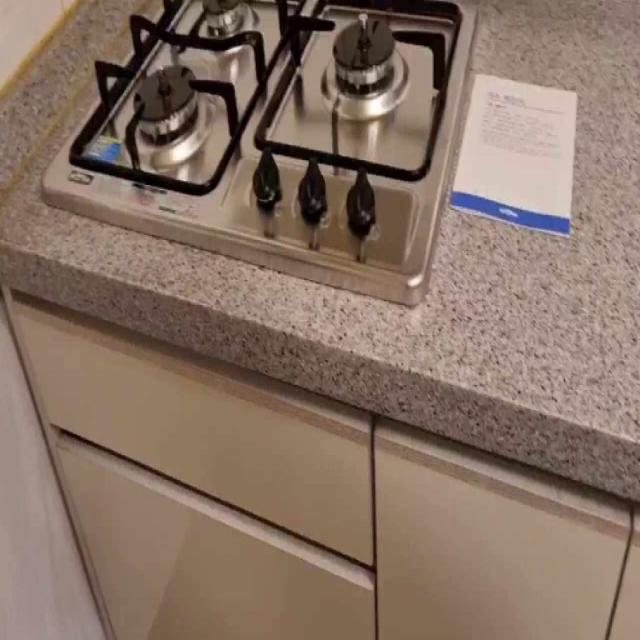knob_ON: (89, 0, 480, 253)
